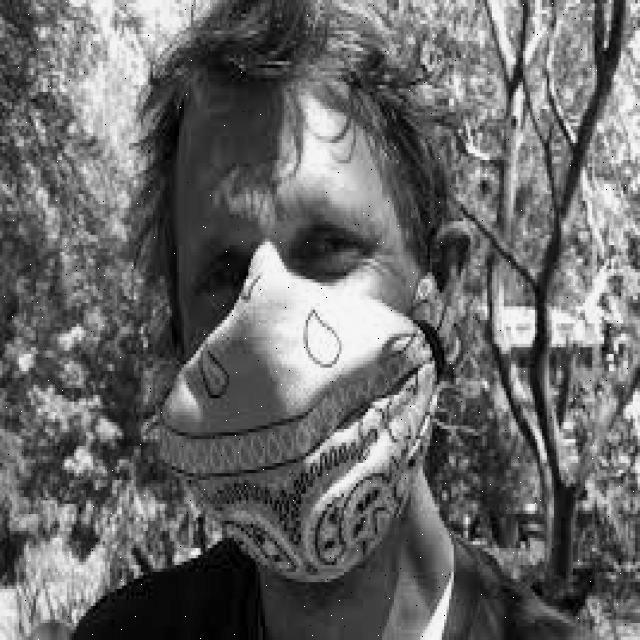fake: (91, 290, 502, 608)
real: (173, 96, 426, 585)
